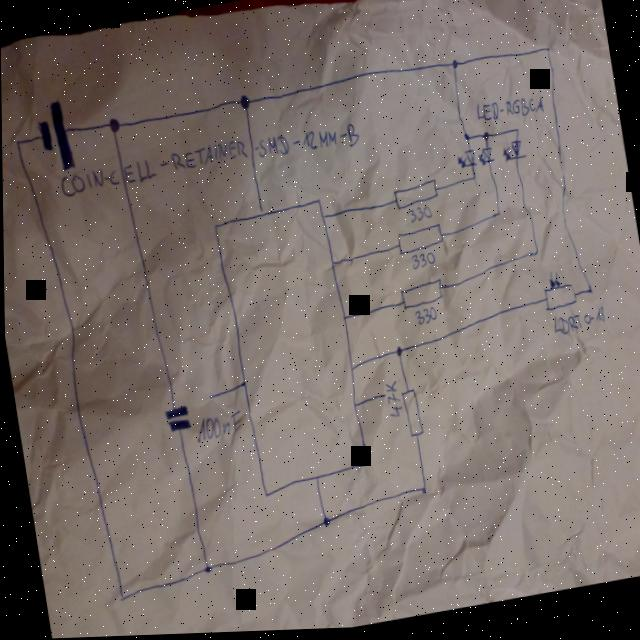capacitor: (160, 404, 190, 436)
diode: (497, 139, 527, 167), (453, 150, 476, 172), (474, 148, 495, 171)
junction: (104, 115, 121, 136), (236, 93, 251, 113), (199, 562, 211, 576), (317, 516, 329, 529), (113, 590, 124, 603), (392, 346, 402, 360), (448, 59, 458, 72), (479, 133, 488, 144), (417, 486, 425, 497), (461, 134, 469, 144), (13, 137, 20, 147), (584, 288, 591, 298), (530, 250, 537, 259), (512, 128, 519, 137), (543, 47, 550, 56), (469, 176, 476, 184), (493, 213, 499, 221)
resistor: (536, 269, 576, 316), (393, 222, 443, 257), (396, 277, 443, 313), (389, 178, 438, 212), (397, 388, 423, 441)
source: (30, 92, 79, 176)
text: (55, 121, 361, 201), (473, 94, 543, 128), (189, 407, 244, 450), (550, 309, 605, 339), (380, 378, 400, 426), (406, 250, 435, 274), (403, 204, 432, 227), (412, 306, 436, 328)
